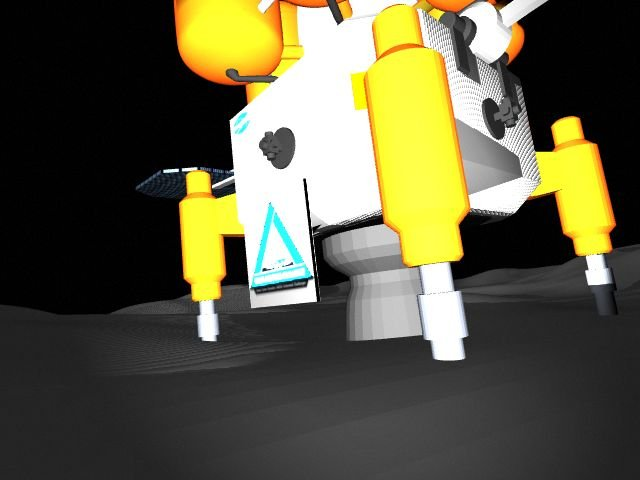basemarker: (249, 201, 314, 297)
